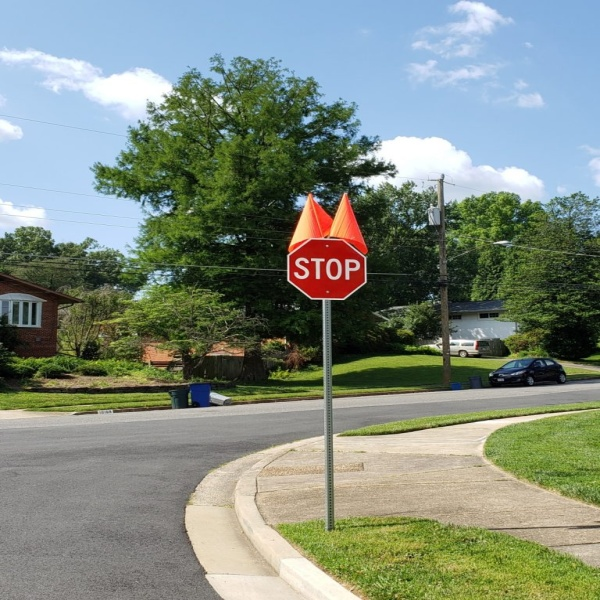stop: (286, 237, 367, 303)
